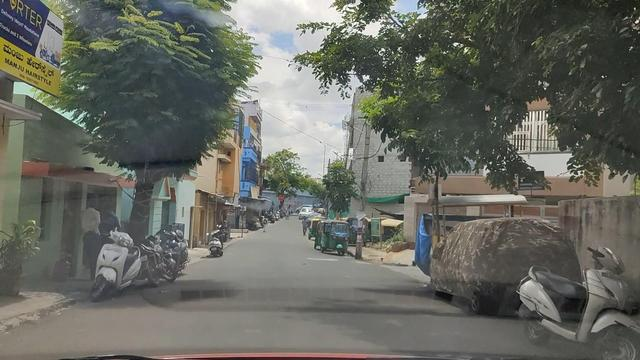LMV: (524, 243, 633, 360), (314, 221, 346, 253)
